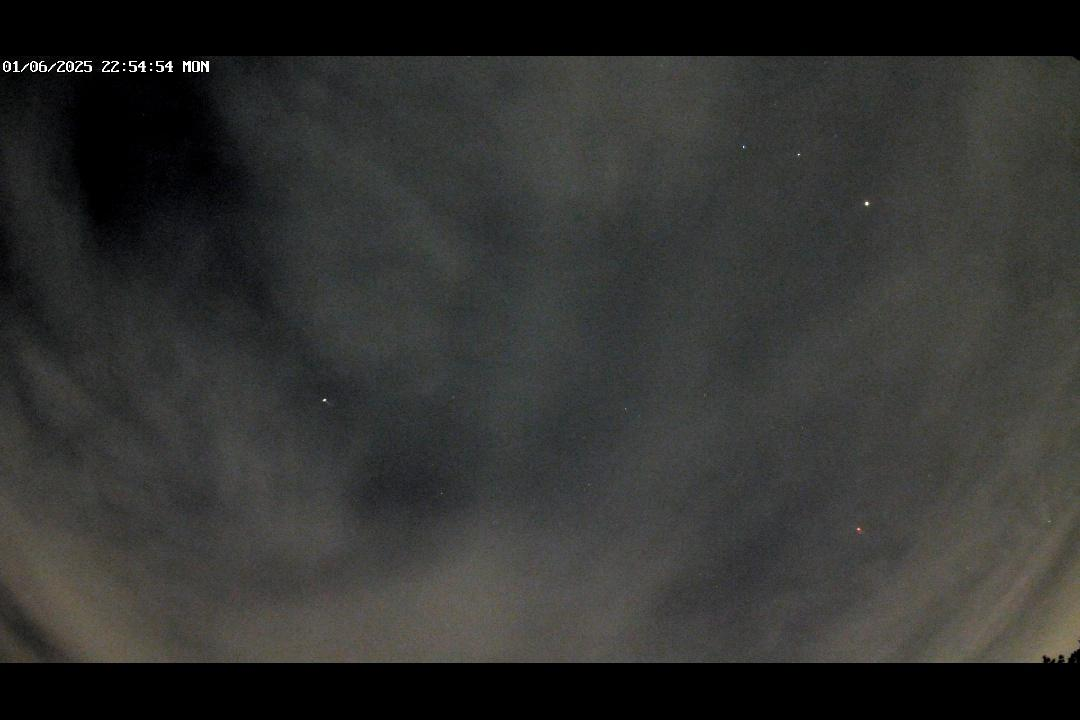Plane: (851, 523, 880, 546)
